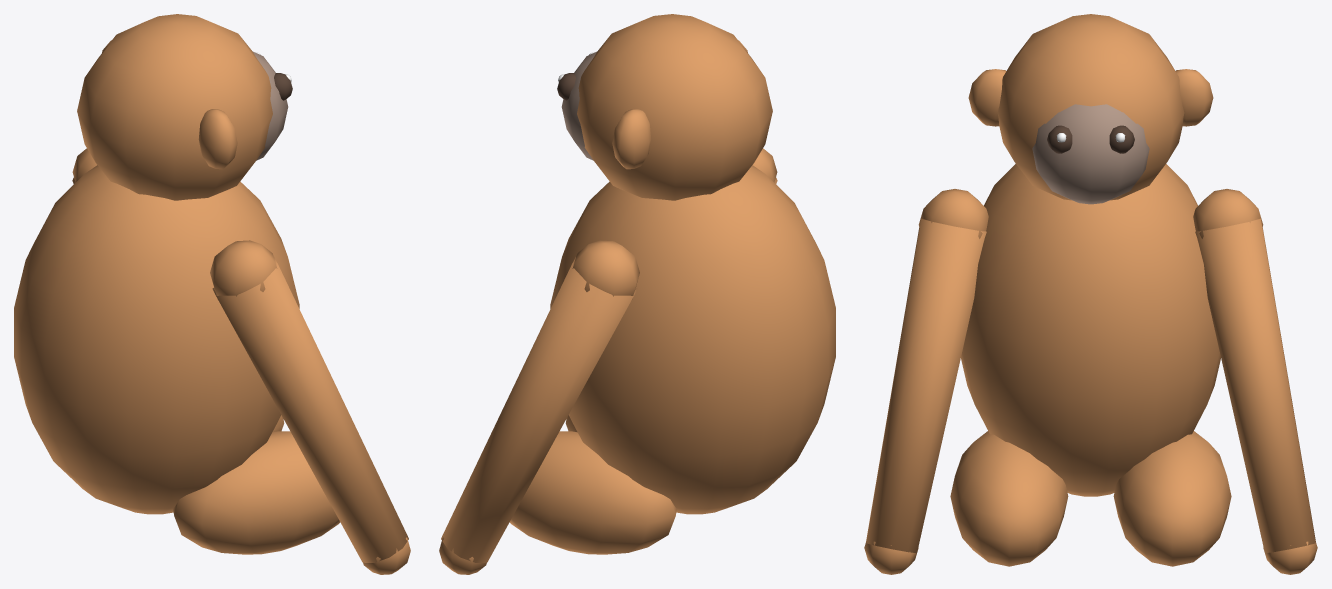
The model's file is bornean-orangutan.glb.
3 renders of one model, left to right at view 1: azimuth 30°, elevation 25°; view 2: azimuth 150°, elevation 25°; view 3: azimuth 270°, elevation 25°, orthographic.
Parts seen in each view (by area): view 1: e.008, e; view 2: e.008, e; view 3: e.008, e.
Part boxes in pixels (bbox=[...]): e.008: bbox=[14, 148, 410, 574]; e: bbox=[77, 14, 292, 200]; e.008: bbox=[439, 148, 835, 574]; e: bbox=[557, 14, 772, 200]; e.008: bbox=[864, 164, 1317, 574]; e: bbox=[968, 14, 1213, 204].
Bounding box in the file's own units: 0.7319 × 1.22 × 1.
